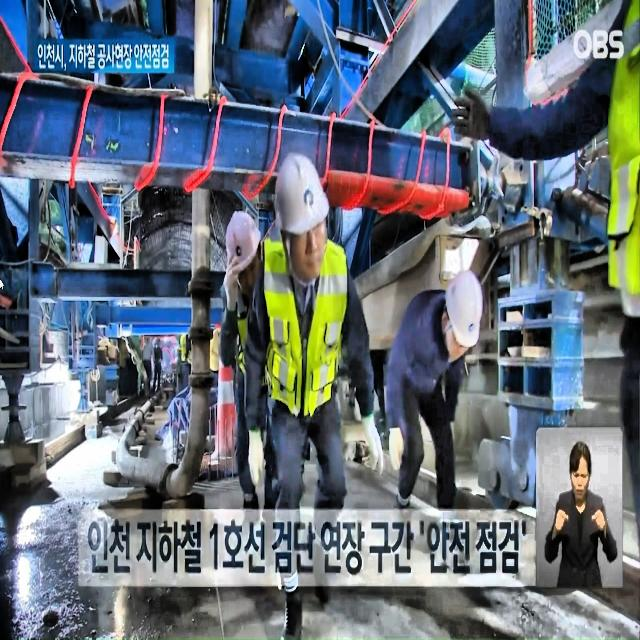safety_helmet: (272, 151, 331, 238), (444, 268, 484, 350), (224, 208, 264, 272)
safety_jacket: (258, 233, 346, 416), (608, 8, 640, 315), (231, 300, 256, 370)
